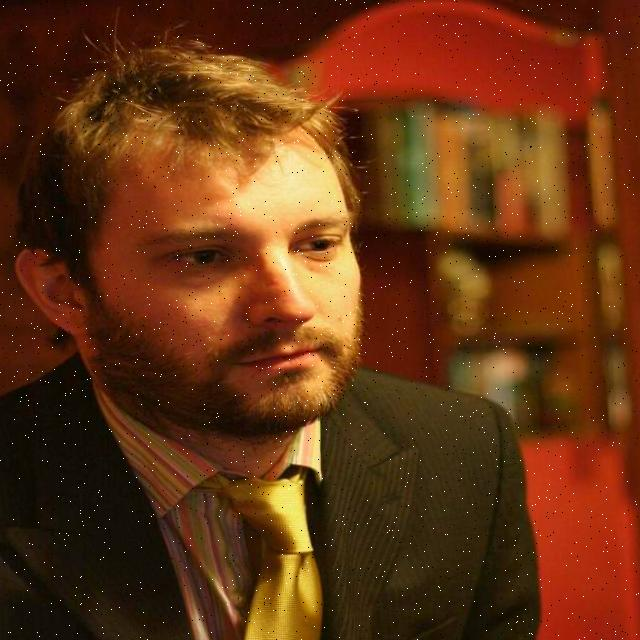puffy_eyes: (170, 262, 239, 289), (296, 249, 346, 277)
